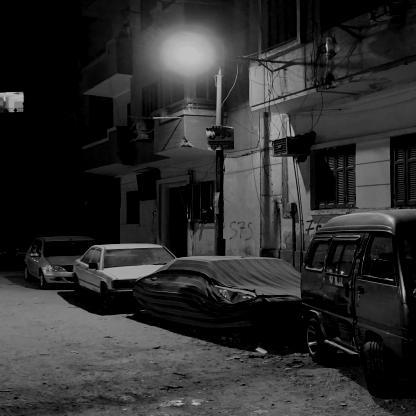light_pole: (176, 47, 225, 259)
